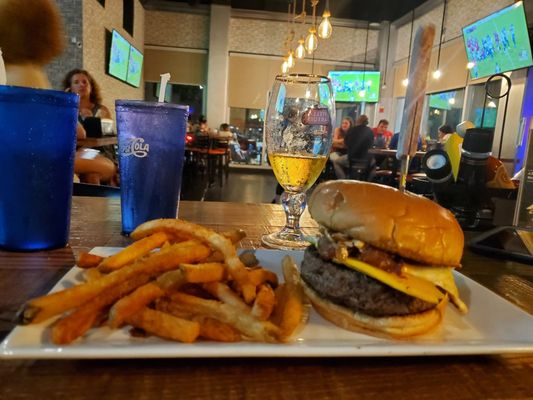pizza: (0, 85, 78, 252), (114, 99, 190, 236)
soup: (297, 179, 469, 341)
